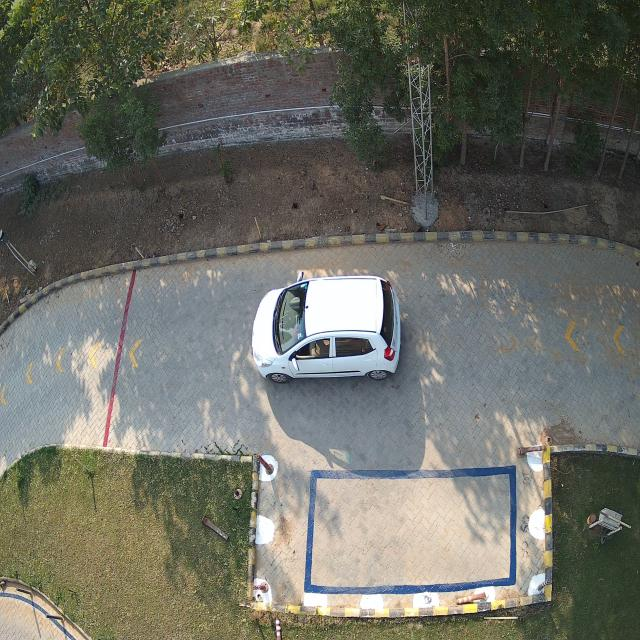car: (252, 275, 401, 382)
